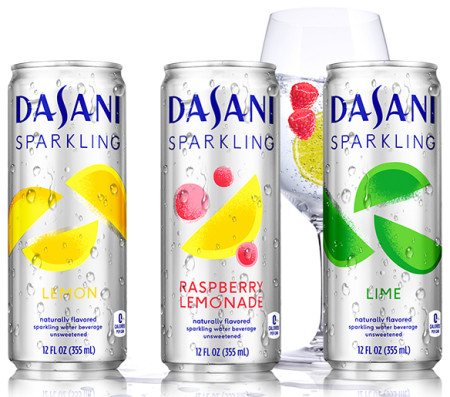lemon: (8, 154, 126, 303)
lemonade: (161, 162, 268, 313)
lime: (324, 157, 442, 309)
